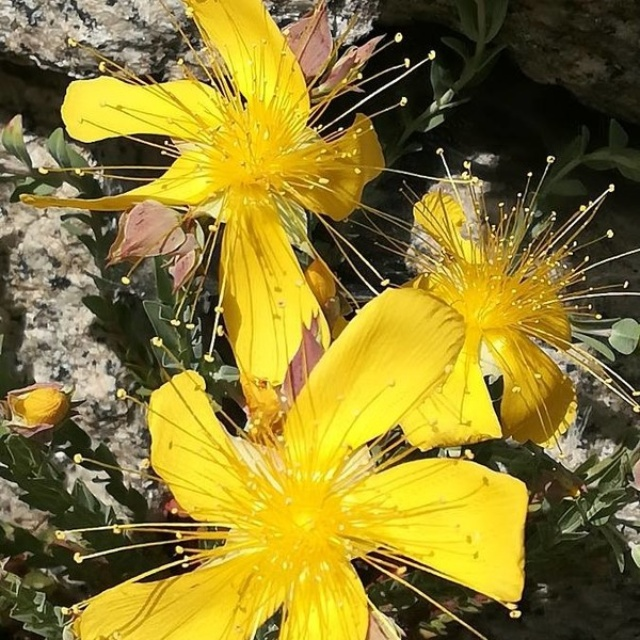obstacle: (53, 36, 548, 623)
